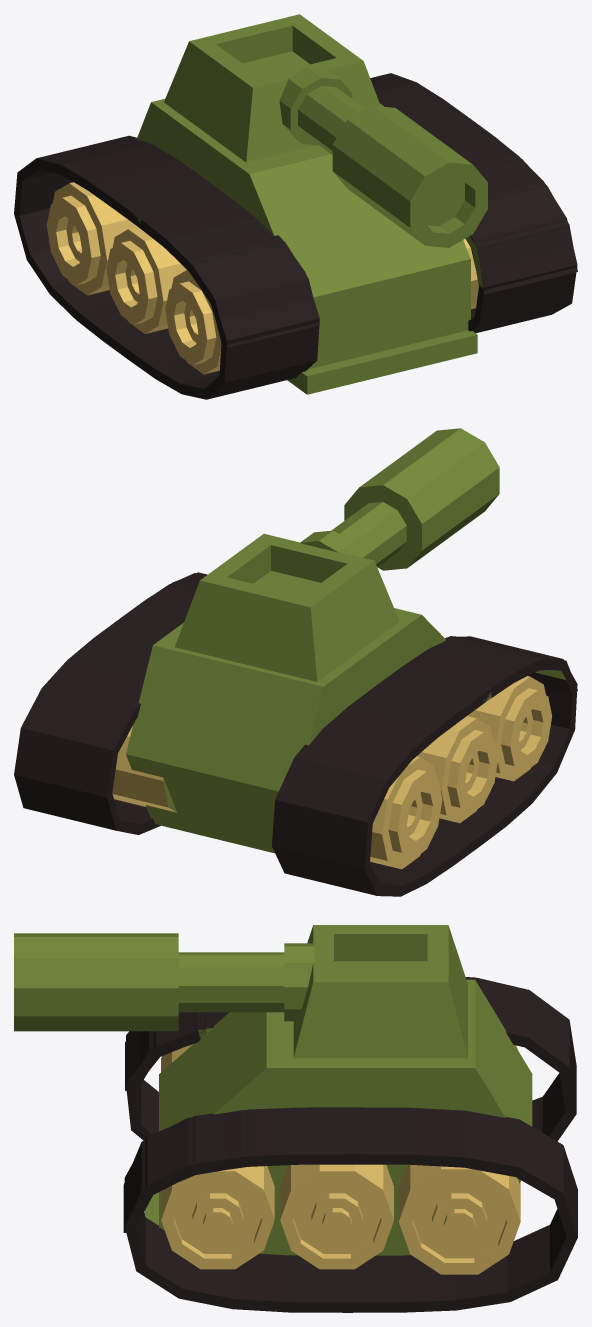
The model's file is tank.glb.
The picture shows the model from 3 angles, top to bottom: view 1: azimuth 30°, elevation 25°; view 2: azimuth 150°, elevation 25°; view 3: azimuth 270°, elevation 25°; orthographic projection. The views are drawn at different scales.
Visible parts, largest first — view 1: tank_; view 2: tank_; view 3: tank_.
Part boxes in pixels (x1=…): tank_: x1=14, y1=14, x2=577, y2=399; tank_: x1=14, y1=428, x2=577, y2=896; tank_: x1=14, y1=925, x2=577, y2=1312.
Size of the model in its own units: 2.89 by 2.1 by 3.81.
